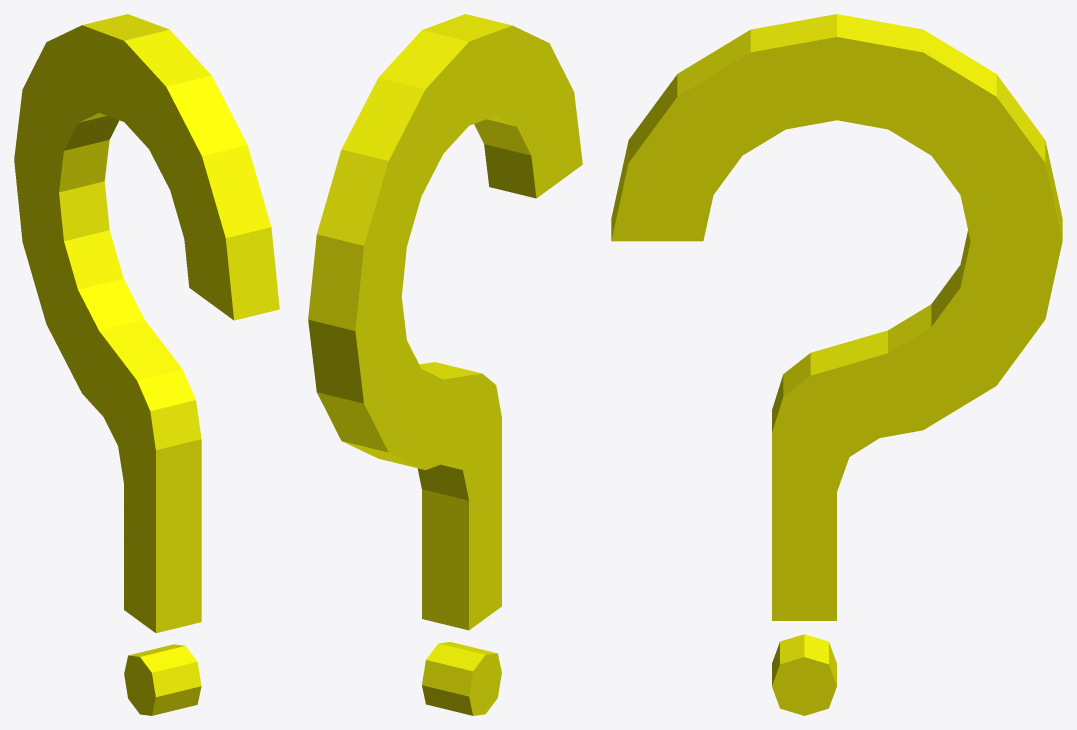
File: SInterrogacion.fbx
3 views of the same model, side by side, from view 1: azimuth 30°, elevation 25°; view 2: azimuth 150°, elevation 25°; view 3: azimuth 270°, elevation 25° (orthographic). The views are drawn at different scales.
Visible parts, largest first — view 1: SInterrogacion; view 2: SInterrogacion; view 3: SInterrogacion.
Part boxes in pixels (<box>): SInterrogacion: <box>14,14,279,715</box>; SInterrogacion: <box>308,14,582,715</box>; SInterrogacion: <box>611,14,1062,715</box>.
Size of the model in its own units: 3 by 41.51 by 25.
